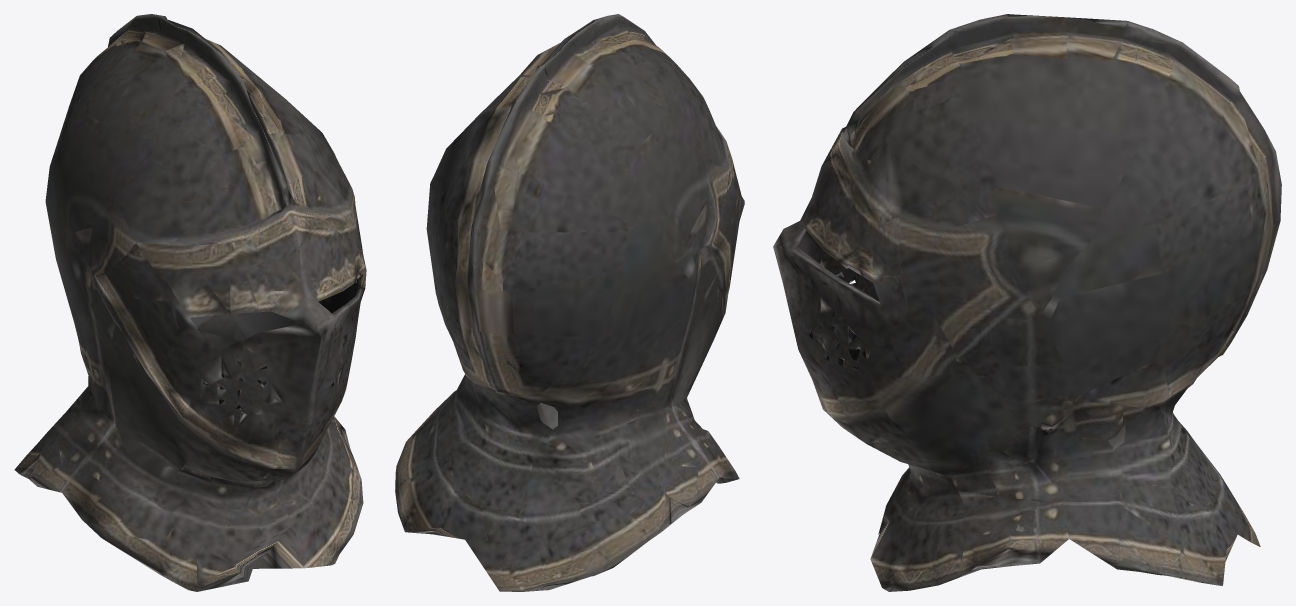
File: helm-knight.glb
3 views of the same model, side by side, from view 1: azimuth 30°, elevation 25°; view 2: azimuth 150°, elevation 25°; view 3: azimuth 270°, elevation 25° (orthographic). The views are drawn at different scales.
Size of the model in its own units: 1.12 by 1.84 by 1.56.
Materials: 1 (1 with a texture image).
